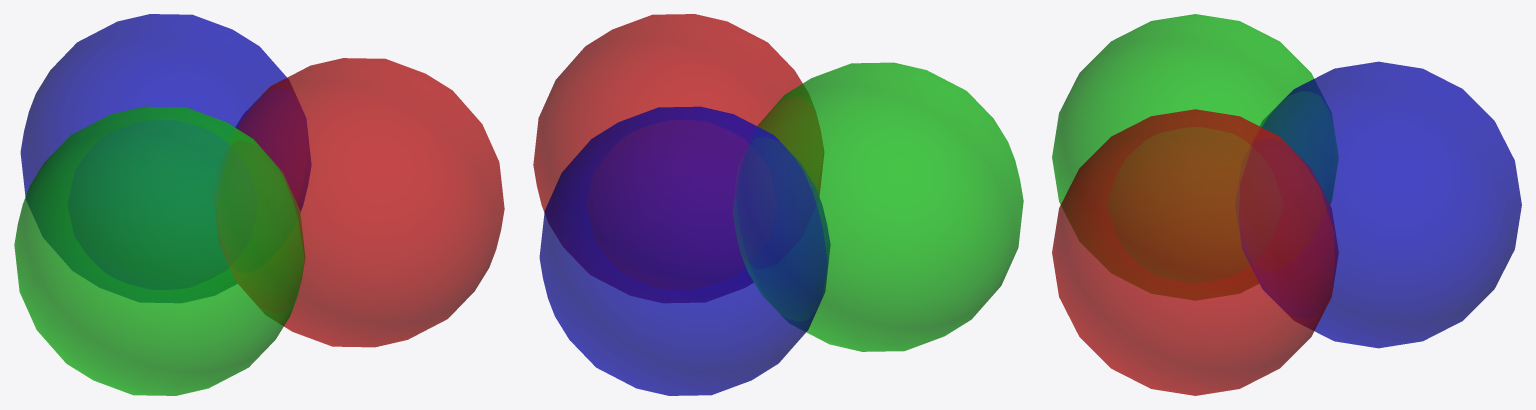
The picture shows the model from 3 angles, left to right: view 1: azimuth 30°, elevation 25°; view 2: azimuth 150°, elevation 25°; view 3: azimuth 270°, elevation 25°; orthographic projection. The views are drawn at different scales.
Visible parts, largest first — view 1: mol-1, mol-0, mol-2; view 2: mol-2, mol-1, mol-0; view 3: mol-0, mol-2, mol-1.
Part boxes in pixels (x1,y1,x2,y2): mol-1: [14, 106, 304, 395]; mol-0: [214, 58, 504, 347]; mol-2: [20, 14, 311, 302]; mol-2: [539, 106, 830, 395]; mol-1: [733, 62, 1023, 351]; mol-0: [533, 14, 823, 302]; mol-0: [1052, 109, 1338, 395]; mol-2: [1236, 61, 1521, 348]; mol-1: [1052, 14, 1338, 299].
Bounding box in the file's own units: 9.09 × 5.09 × 8.34.
